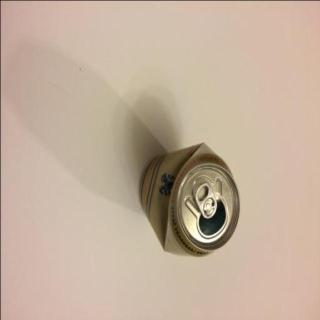Anorganik: (135, 136, 241, 260)
